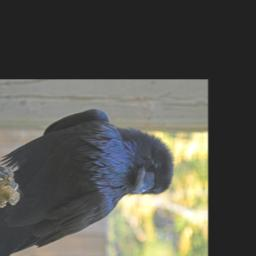Crow: (0, 104, 179, 256)
